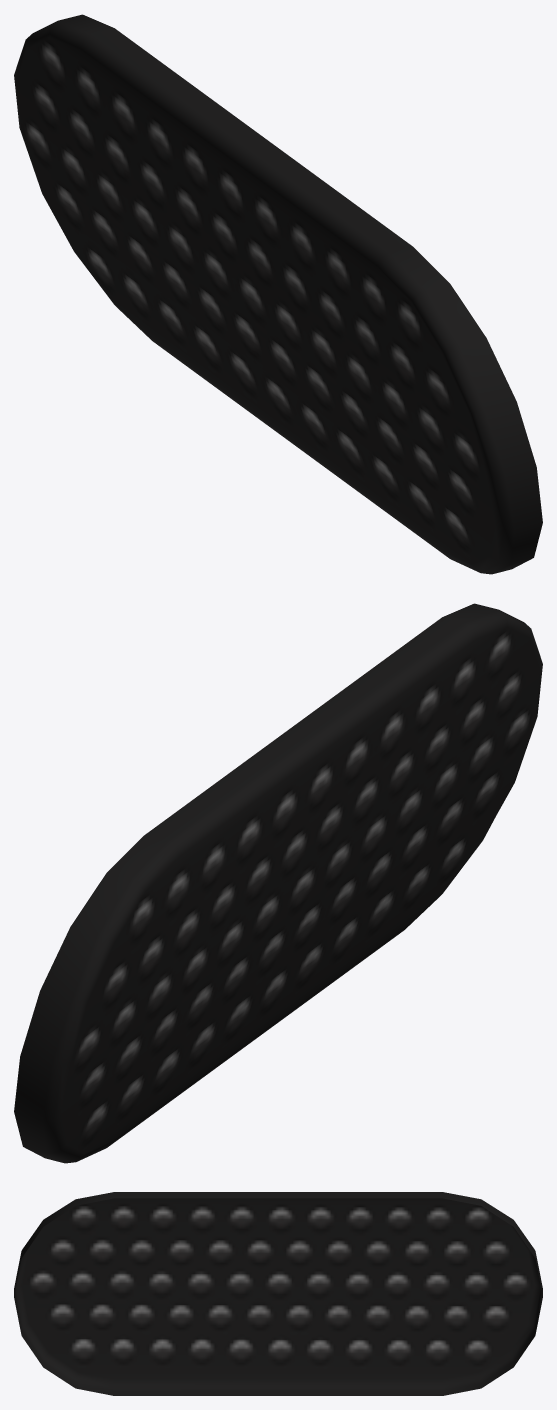
The model's file is l_grip.obj.
3 renders of one model, top to bottom at view 1: azimuth 30°, elevation 25°; view 2: azimuth 150°, elevation 25°; view 3: azimuth 270°, elevation 25°, orthographic. The views are drawn at different scales.
Visible parts, largest first — view 1: polySurface275_polySurface287; view 2: polySurface275_polySurface287; view 3: polySurface275_polySurface287.
Part boxes in pixels (bbox=[...]): polySurface275_polySurface287: bbox=[14, 14, 542, 574]; polySurface275_polySurface287: bbox=[14, 603, 542, 1163]; polySurface275_polySurface287: bbox=[14, 1192, 542, 1395].
Bounding box in the file's own units: 0.00242 × 0.00741 × 0.0198.
Materials: 1 (1 with a texture image).
